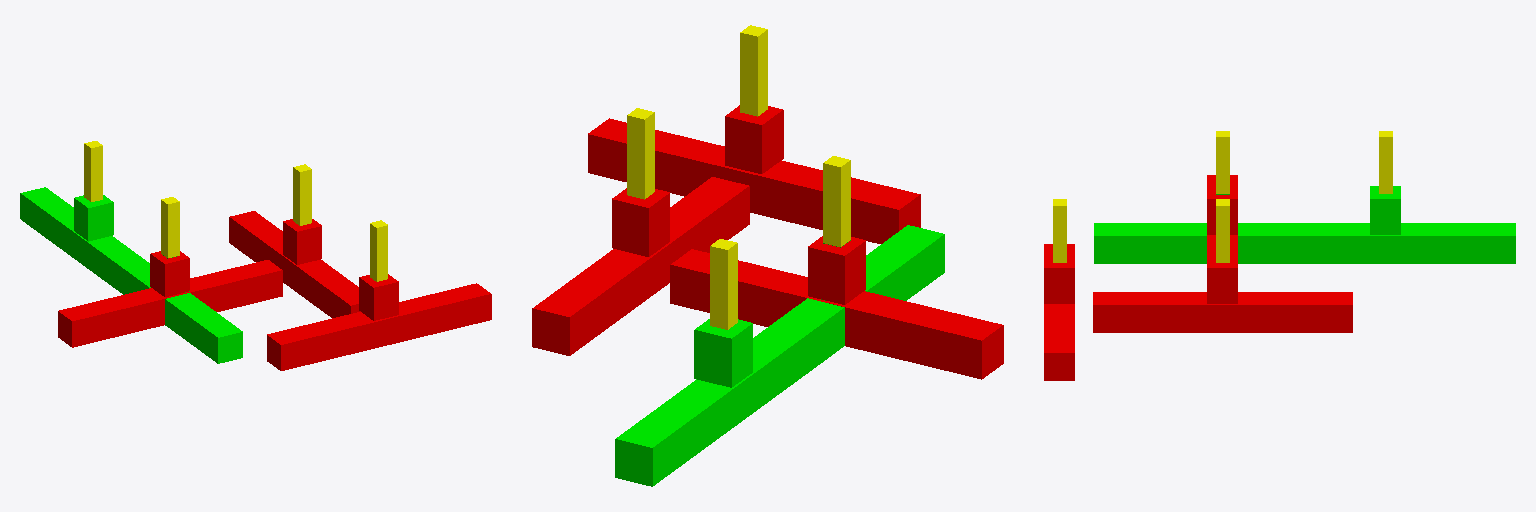
--- Facts derived from the render (not from the file) ---
Views: 3 orthographic renders of the robot side by side, from view 1: azimuth 30°, elevation 25°; view 2: azimuth 150°, elevation 25°; view 3: azimuth 270°, elevation 25°.
Model simple_sliders with 25 links and 24 joints (7 revolute, 6 prismatic, 11 fixed), rooted at base_link, posed every joint at zero.
Visible links, largest first — view 1: link_3_joint_0, link_1_joint_0, link_0_joint_0, link_2_joint_0, goal, link_fixed_10_handle_shaft, link_fixed_1_handle_shaft, link_fixed_4_handle_shaft, link_fixed_7_handle_shaft, link_fixed_2_handle_knob, link_fixed_5_handle_knob, link_fixed_8_handle_knob (+1 smaller); view 2: link_1_joint_0, link_0_joint_0, link_3_joint_0, link_2_joint_0, goal, link_fixed_10_handle_shaft, link_fixed_1_handle_shaft, link_fixed_7_handle_shaft, link_fixed_4_handle_shaft, link_fixed_8_handle_knob, link_fixed_11_handle_knob, link_fixed_5_handle_knob (+1 smaller); view 3: link_0_joint_0, link_2_joint_0, goal, link_3_joint_0, link_fixed_10_handle_shaft, link_fixed_1_handle_shaft, link_fixed_7_handle_shaft, link_fixed_11_handle_knob, link_fixed_8_handle_knob, link_fixed_4_handle_shaft, link_fixed_2_handle_knob, link_fixed_5_handle_knob (+1 smaller).
Link boxes in pixels (bbox=[...]): link_3_joint_0: bbox=[267, 283, 491, 370]; link_1_joint_0: bbox=[58, 260, 282, 347]; link_0_joint_0: bbox=[20, 187, 149, 294]; link_2_joint_0: bbox=[229, 211, 360, 317]; goal: bbox=[142, 280, 242, 363]; link_fixed_10_handle_shaft: bbox=[359, 274, 398, 320]; link_fixed_1_handle_shaft: bbox=[74, 195, 113, 241]; link_fixed_4_handle_shaft: bbox=[150, 251, 189, 296]; link_fixed_7_handle_shaft: bbox=[283, 219, 321, 264]; link_fixed_2_handle_knob: bbox=[84, 141, 102, 201]; link_fixed_5_handle_knob: bbox=[161, 197, 179, 257]; link_fixed_8_handle_knob: bbox=[293, 164, 311, 225]; link_1_joint_0: bbox=[670, 249, 1003, 379]; link_0_joint_0: bbox=[615, 307, 831, 486]; link_3_joint_0: bbox=[588, 118, 920, 243]; link_2_joint_0: bbox=[532, 177, 749, 355]; goal: bbox=[796, 225, 944, 354]; link_fixed_10_handle_shaft: bbox=[725, 105, 783, 173]; link_fixed_1_handle_shaft: bbox=[694, 319, 752, 387]; link_fixed_7_handle_shaft: bbox=[612, 188, 669, 256]; link_fixed_4_handle_shaft: bbox=[808, 236, 865, 304]; link_fixed_8_handle_knob: bbox=[627, 108, 654, 199]; link_fixed_11_handle_knob: bbox=[740, 25, 767, 116]; link_fixed_5_handle_knob: bbox=[823, 156, 850, 246]; link_0_joint_0: bbox=[1256, 223, 1515, 263]; link_2_joint_0: bbox=[1093, 292, 1352, 332]; goal: bbox=[1094, 223, 1255, 263]; link_3_joint_0: bbox=[1044, 244, 1074, 380]; link_fixed_10_handle_shaft: bbox=[1044, 255, 1074, 303]; link_fixed_1_handle_shaft: bbox=[1370, 186, 1400, 234]; link_fixed_7_handle_shaft: bbox=[1207, 255, 1237, 303]; link_fixed_11_handle_knob: bbox=[1053, 199, 1066, 262]; link_fixed_8_handle_knob: bbox=[1216, 199, 1229, 262]; link_fixed_4_handle_shaft: bbox=[1207, 186, 1237, 234]; link_fixed_2_handle_knob: bbox=[1379, 131, 1392, 193]; link_fixed_5_handle_knob: bbox=[1216, 131, 1229, 193].
Size in the robot's own frame: 1.29 by 1.45 by 0.42 metres.
0 mesh visuals loaded from 8 distinct referenced files (none loaded); not drawn: 8 (reference not matched to a file when rendering).

robot.urdf — simple_sliders:
<?xml version="1.0" ?>
<robot name="simple_sliders">
  

  <material name="Grey">
    
    
    <color rgba="0.2 0.2 0.2 1.0"/>
    
  
  </material>
  
  
  <material name="Orange">
    
    
    <color rgba="1.0 0.423529411765 0.0392156862745 1.0"/>
    
  
  </material>
  
  
  <material name="Blue">
    
    
    <color rgba="0.5 0.7 1.0 1.0"/>
          
  
  </material>
  



  
  <link name="base_link">
  </link>
  
  
  
  
  <joint name="x_axis" type="prismatic">
    
    
    <parent link="base_link"/>
    
    
    <child link="link_2d_plane"/>
    
    
    <origin rpy="0 0 0" xyz="0 0 0"/>
    
    
    <axis xyz="1.0 0 0"/>
    
    
    <limit lower="-4" upper="4" effort="0" velocity="0"/>
    
    
    <dynamics damping="0.5"/>
    
  
  </joint>
  
  
  
  <link name="link_2d_plane">
  </link>
  
  
  
  
  <joint name="y_axis" type="prismatic">
    
    
    <parent link="link_2d_plane"/>
    
    
    <child link="lbr_iiwa_link_0"/>
    
    
    <origin rpy="0 0 0" xyz="0 0 0"/>
    
    
    <axis xyz="0 1.0 0"/>
    
    
    <limit lower="-4" upper="4" effort="0" velocity="0"/>
    
    
    <dynamics damping="0.5"/>
    
  
  </joint>
  

  
  
  
  
  
  
  
  
  
  <link name="lbr_iiwa_link_0">
    
    
    <inertial>
      
      
      <origin rpy="0 0 0" xyz="-0.1 0 0.07"/>
      
      
      
      <mass value="0.0"/>
      
      
      <inertia ixx="0.05" ixy="0" ixz="0" iyy="0.06" iyz="0" izz="0.03"/>
      
    
    </inertial>
    
    
    <visual>
      
      
      <origin rpy="0 0 0" xyz="0 0 0"/>
      
      
      <geometry>
        
        
        <mesh filename="meshes/link_0.obj"/>
        
      
      </geometry>
      
      
      <material name="Grey"/>
      
    
    </visual>
    
    
    <collision>
      
      
      <origin rpy="0 0 0" xyz="0 0 0"/>
      
      
      <geometry>
        
        
        <mesh filename="meshes/link_0.stl"/>
        
      
      </geometry>
      
    
    </collision>
    
  
  </link>
  
  
  
  <joint name="lbr_iiwa_joint_1" type="revolute">
    
    
    <parent link="lbr_iiwa_link_0"/>
    
    
    <child link="lbr_iiwa_link_1"/>
    
    
    <origin rpy="0 0 0" xyz="0 0 0.1575"/>
    
    
    <axis xyz="0 0 1"/>
    
    
    <limit effort="300" lower="-2.96705972839" upper="2.96705972839" velocity="10"/>
    
    
    <dynamics damping="0.5"/>
    
  
  </joint>
  
  
  <link name="lbr_iiwa_link_1">
    
    
    <inertial>
      
      
      <origin rpy="0 0 0" xyz="0 -0.03 0.12"/>
      
      
      <mass value="4"/>
      
      
      <inertia ixx="0.1" ixy="0" ixz="0" iyy="0.09" iyz="0" izz="0.02"/>
      
    
    </inertial>
    
    
    <visual>
      
      
      <origin rpy="0 0 0" xyz="0 0 0"/>
      
      
      <geometry>
        
        
        <mesh filename="meshes/link_1.obj"/>
        
      
      </geometry>
      
      
      <material name="Blue"/>
      
    
    </visual>
    
    
    <collision>
      
      
      <origin rpy="0 0 0" xyz="0 0 0"/>
      
      
      <geometry>
        
        
        <mesh filename="meshes/link_1.stl"/>
        
      
      </geometry>
      
    
    </collision>
    
  
  </link>
  
  
  
  <joint name="lbr_iiwa_joint_2" type="revolute">
    
    
    <parent link="lbr_iiwa_link_1"/>
    
    
    <child link="lbr_iiwa_link_2"/>
    
    
    <origin rpy="1.57079632679   0 3.14159265359" xyz="0 0 0.2025"/>
    
    
    <axis xyz="0 0 1"/>
    
    
    <limit effort="300" lower="-2.09439510239" upper="2.09439510239" velocity="10"/>
    
    
    <dynamics damping="0.5"/>
    
  
  </joint>
  
  
  <link name="lbr_iiwa_link_2">
    
    
    <inertial>
      
      
      <origin rpy="0 0 0" xyz="0.0003 0.059 0.042"/>
      
      
      <mass value="4"/>
      
      
      <inertia ixx="0.05" ixy="0" ixz="0" iyy="0.018" iyz="0" izz="0.044"/>
      
    
    </inertial>
    
    
    <visual>
      
      
      <origin rpy="0 0 0" xyz="0 0 0"/>
      
      
      <geometry>
        
        
        <mesh filename="meshes/link_2.obj"/>
        
      
      </geometry>
      
      
      <material name="Blue"/>
      
    
    </visual>
    
    
    <collision>
      
      
      <origin rpy="0 0 0" xyz="0 0 0"/>
      
      
      <geometry>
        
        
        <mesh filename="meshes/link_2.stl"/>
        
      
      </geometry>
      
    
    </collision>
    
  
  </link>
  
  
  
  <joint name="lbr_iiwa_joint_3" type="revolute">
    
    
    <parent link="lbr_iiwa_link_2"/>
    
    
    <child link="lbr_iiwa_link_3"/>
    
    
    <origin rpy="1.57079632679 0 3.14159265359" xyz="0 0.2045 0"/>
    
    
    <axis xyz="0 0 1"/>
    
    
    <limit effort="300" lower="-2.96705972839" upper="2.96705972839" velocity="10"/>
    
    
    <dynamics damping="0.5"/>
    
  
  </joint>
  
  
  <link name="lbr_iiwa_link_3">
    
    
    <inertial>
      
      
      <origin rpy="0 0 0" xyz="0 0.03 0.13"/>
      
      
      <mass value="3"/>
      
      
      <inertia ixx="0.08" ixy="0" ixz="0" iyy="0.075" iyz="0" izz="0.01"/>
      
    
    </inertial>
    
    
    <visual>
      
      
      <origin rpy="0 0 0" xyz="0 0 0"/>
      
      
      <geometry>
        
        
        <mesh filename="meshes/link_3.obj"/>
        
      
      </geometry>
      
      
      <material name="Orange"/>
      
    
    </visual>
    
    
    <collision>
      
      
      <origin rpy="0 0 0" xyz="0 0 0"/>
      
      
      <geometry>
        
        
        <mesh filename="meshes/link_3.stl"/>
        
      
      </geometry>
      
    
    </collision>
    
  
  </link>
  
  
  
  <joint name="lbr_iiwa_joint_4" type="revolute">
    
    
    <parent link="lbr_iiwa_link_3"/>
    
    
    <child link="lbr_iiwa_link_4"/>
    
    
    <origin rpy="1.57079632679 0 0" xyz="0 0 0.2155"/>
    
    
    <axis xyz="0 0 1"/>
    
    
    <limit effort="300" lower="-2.09439510239" upper="2.09439510239" velocity="10"/>
    
    
    <dynamics damping="0.5"/>
    
  
  </joint>
  
  
  <link name="lbr_iiwa_link_4">
    
    
    <inertial>
      
      
      <origin rpy="0 0 0" xyz="0 0.067 0.034"/>
      
      
      <mass value="2.7"/>
      
      
      <inertia ixx="0.03" ixy="0" ixz="0" iyy="0.01" iyz="0" izz="0.029"/>
      
    
    </inertial>
    
    
    <visual>
      
      
      <origin rpy="0 0 0" xyz="0 0 0"/>
      
      
      <geometry>
        
        
        <mesh filename="meshes/link_4.obj"/>
        
      
      </geometry>
      
      
      <material name="Blue"/>
      
    
    </visual>
    
    
    <collision>
      
      
      <origin rpy="0 0 0" xyz="0 0 0"/>
      
      
      <geometry>
        
        
        <mesh filename="meshes/link_4.stl"/>
        
      
      </geometry>
      
    
    </collision>
    
  
  </link>
  
  
  
  <joint name="lbr_iiwa_joint_5" type="revolute">
    
    
    <parent link="lbr_iiwa_link_4"/>
    
    
    <child link="lbr_iiwa_link_5"/>
    
    
    <origin rpy="-1.57079632679 3.14159265359 0" xyz="0 0.1845 0"/>
    
    
    <axis xyz="0 0 1"/>
    
    
    <limit effort="300" lower="-2.96705972839" upper="2.96705972839" velocity="10"/>
    
    
    <dynamics damping="0.5"/>
    
  
  </joint>
  
  
  <link name="lbr_iiwa_link_5">
    
    
    <inertial>
      
      
      <origin rpy="0 0 0" xyz="0.0001 0.021 0.076"/>
      
      
      <mass value="1.7"/>
      
      
      <inertia ixx="0.02" ixy="0" ixz="0" iyy="0.018" iyz="0" izz="0.005"/>
      
    
    </inertial>
    
    
    <visual>
      
      
      <origin rpy="0 0 0" xyz="0 0 0"/>
      
      
      <geometry>
        
        
        <mesh filename="meshes/link_5.obj"/>
        
      
      </geometry>
      
      
      <material name="Blue"/>
      
    
    </visual>
    
    
    <collision>
      
      
      <origin rpy="0 0 0" xyz="0 0 0"/>
      
      
      <geometry>
        
        
        <mesh filename="meshes/link_5.stl"/>
        
      
      </geometry>
      
    
    </collision>
    
  
  </link>
  
  
  
  <joint name="lbr_iiwa_joint_6" type="revolute">
    
    
    <parent link="lbr_iiwa_link_5"/>
    
    
    <child link="lbr_iiwa_link_6"/>
    
    
    <origin rpy="1.57079632679 0 0" xyz="0 0 0.2155"/>
    
    
    <axis xyz="0 0 1"/>
    
    
    <limit effort="300" lower="-2.09439510239" upper="2.09439510239" velocity="10"/>
    
    
    <dynamics damping="0.5"/>
    
  
  </joint>
  
  
  <link name="lbr_iiwa_link_6">
    
    
    <inertial>
      
      
      <origin rpy="0 0 0" xyz="0 0.0006 0.0004"/>
      
      
      <mass value="1.8"/>
      
      
      <inertia ixx="0.005" ixy="0" ixz="0" iyy="0.0036" iyz="0" izz="0.0047"/>
      
    
    </inertial>
    
    
    <visual>
      
      
      <origin rpy="0 0 0" xyz="0 0 0"/>
      
      
      <geometry>
        
        
        <mesh filename="meshes/link_6.obj"/>
        
      
      </geometry>
      
      
      <material name="Orange"/>
      
    
    </visual>
    
    
    <collision>
      
      
      <origin rpy="0 0 0" xyz="0 0 0"/>
      
      
      <geometry>
        
        
        <mesh filename="meshes/link_6.stl"/>
        
      
      </geometry>
      
    
    </collision>
    
  
  </link>
  
  
  
  <joint name="lbr_iiwa_joint_7" type="revolute">
    
    
    <parent link="lbr_iiwa_link_6"/>
    
    
    <child link="lbr_iiwa_link_7"/>
    
    
    <origin rpy="-1.57079632679 3.14159265359 0" xyz="0 0.081 0"/>
    
    
    <axis xyz="0 0 1"/>
    
    
    <limit effort="300" lower="-3.05432619099" upper="3.05432619099" velocity="10"/>
    
    
    <dynamics damping="0.5"/>
    
  
  </joint>
  
  
  <link name="lbr_iiwa_link_7">
    
    
    <inertial>
      
      
      <origin rpy="0 0 0" xyz="0 0 0.02"/>
      
      
      <mass value="0.3"/>
      
      
      <inertia ixx="0.001" ixy="0" ixz="0" iyy="0.001" iyz="0" izz="0.001"/>
      
    
    </inertial>
    
    
    <visual>
      
      
      <origin rpy="0 0 0" xyz="0 0 0"/>
      
      
      <geometry>
        
        
        <mesh filename="meshes/link_7.obj"/>
        
      
      </geometry>
      
      
      <material name="Grey"/>
      
    
    </visual>
    
    
    <collision>
      
      
      <origin rpy="0 0 0" xyz="0 0 0"/>
      
      
      <geometry>
        
        
        <mesh filename="meshes/link_7.stl"/>
        
      
      </geometry>
      
    
    </collision>
    
  
  </link>
  
  

  <link name="goal">
    
      
    <visual name="visual_box_0_link_0.001">
      
        
      <origin xyz="0 0 0" rpy="0 0 0"/>
      
        
      <geometry>
        
          
        <box size="0.79103 0.09453 0.09453"/>
        
        
      </geometry>
      
        
      <material name="green_translucent"/>
      
      
    </visual>
    
    
  </link>
  

    
  <link name="link_0_joint_0">
    
      
    <visual name="visual_box_0_link_0">
      
        
      <origin xyz="0 0 0" rpy="0 0 0"/>
      
        
      <geometry>
        
          
        <box size="0.795 0.095 0.095"/>
        
        
      </geometry>
      
        
      <material name="green"/>
      
      
    </visual>
    
      
    <collision name="collision_box_0_link_0">
      
        
      <origin xyz="0 0 0" rpy="0 0 0"/>
      
        
      <geometry>
        
          
        <box size="0.795 0.095 0.095"/>
        
        
      </geometry>
      
      
    </collision>
    
    
  </link>
  

    
  <link name="link_1_joint_0">
    
      
    <visual name="visual_box_3_link_1">
      
        
      <origin xyz="0 0 0" rpy="0 0 0"/>
      
        
      <geometry>
        
          
        <box size="0.795 0.095 0.095"/>
        
        
      </geometry>
      
        
      <material name="red"/>
      
      
    </visual>
    
      
    <collision name="collision_box_3_link_1">
      
        
      <origin xyz="0 0 0" rpy="0 0 0"/>
      
        
      <geometry>
        
          
        <box size="0.795 0.095 0.095"/>
        
        
      </geometry>
      
      
    </collision>
    
    
  </link>
  

    
  <link name="link_2_joint_0">
    
      
    <visual name="visual_box_6_link_2">
      
        
      <origin xyz="0 0 0" rpy="0 0 0"/>
      
        
      <geometry>
        
          
        <box size="0.795 0.095 0.095"/>
        
        
      </geometry>
      
        
      <material name="red"/>
      
      
    </visual>
    
      
    <collision name="collision_box_6_link_2">
      
        
      <origin xyz="0 0 0" rpy="0 0 0"/>
      
        
      <geometry>
        
          
        <box size="0.795 0.095 0.095"/>
        
        
      </geometry>
      
      
    </collision>
    
    
  </link>
  

    
  <link name="link_3_joint_0">
    
      
    <visual name="visual_box_9_link_3">
      
        
      <origin xyz="0 0 0" rpy="0 0 0"/>
      
        
      <geometry>
        
          
        <box size="0.795 0.095 0.095"/>
        
        
      </geometry>
      
        
      <material name="red"/>
      
      
    </visual>
    
      
    <collision name="collision_box_9_link_3">
      
        
      <origin xyz="0 0 0" rpy="0 0 0"/>
      
        
      <geometry>
        
          
        <box size="0.795 0.095 0.095"/>
        
        
      </geometry>
      
      
    </collision>
    
    
  </link>
  

    
  <link name="link_fixed_10_handle_shaft">
    
      
    <visual name="visual_box_fixed_10_handle_shaft">
      
        
      <origin xyz="0 0 0" rpy="0 0 0"/>
      
        
      <geometry>
        
          
        <box size="0.095 0.095 0.12"/>
        
        
      </geometry>
      
        
      <material name="red"/>
      
      
    </visual>
    
      
    <collision name="collision_box_fixed_10_handle_shaft">
      
        
      <origin xyz="0 0 0" rpy="0 0 0"/>
      
        
      <geometry>
        
          
        <box size="0.095 0.095 0.12"/>
        
        
      </geometry>
      
      
    </collision>
    
    
  </link>
  

    
  <link name="link_fixed_11_handle_knob">
    
      
    <visual name="visual_box_fixed_11_handle_knob">
      
        
      <origin xyz="0 0 0" rpy="0 0 0"/>
      
        
      <geometry>
        
          
        <box size="0.045 0.045 0.195"/>
        
        
      </geometry>
      
        
      <material name="yellow"/>
      
      
    </visual>
    
      
    <collision name="collision_box_fixed_11_handle_knob">
      
        
      <origin xyz="0 0 0" rpy="0 0 0"/>
      
        
      <geometry>
        
          
        <box size="0.045 0.045 0.195"/>
        
        
      </geometry>
      
      
    </collision>
    
    
  </link>
  

    
  <link name="link_fixed_1_handle_shaft">
    
      
    <visual name="visual_box_fixed_1_handle_shaft">
      
        
      <origin xyz="0 0 0" rpy="0 0 0"/>
      
        
      <geometry>
        
          
        <box size="0.095 0.095 0.12"/>
        
        
      </geometry>
      
        
      <material name="green"/>
      
      
    </visual>
    
      
    <collision name="collision_box_fixed_1_handle_shaft">
      
        
      <origin xyz="0 0 0" rpy="0 0 0"/>
      
        
      <geometry>
        
          
        <box size="0.095 0.095 0.12"/>
        
        
      </geometry>
      
      
    </collision>
    
    
  </link>
  

    
  <link name="link_fixed_1_handle_shaft.001">
    
      
    <visual name="visual_box_fixed_1_handle_shaft.001">
      
        
      <origin xyz="0 0 0" rpy="0 0 0"/>
      
        
      <geometry>
        
          
        <box size="0.09453 0.09453 0.1194"/>
        
        
      </geometry>
      
        
      <material name="green_translucent"/>
      
      
    </visual>
    
    
  </link>
  

    
  <link name="link_fixed_2_handle_knob">
    
      
    <visual name="visual_box_fixed_2_handle_knob">
      
        
      <origin xyz="0 0 0" rpy="0 0 0"/>
      
        
      <geometry>
        
          
        <box size="0.045 0.045 0.195"/>
        
        
      </geometry>
      
        
      <material name="yellow"/>
      
      
    </visual>
    
      
    <collision name="collision_box_fixed_2_handle_knob">
      
        
      <origin xyz="0 0 0" rpy="0 0 0"/>
      
        
      <geometry>
        
          
        <box size="0.045 0.045 0.195"/>
        
        
      </geometry>
      
      
    </collision>
    
    
  </link>
  

    
  <link name="link_fixed_2_handle_knob.001">
    
      
    <visual name="visual_box_fixed_2_handle_knob.001">
      
        
      <origin xyz="0 0 0" rpy="0 0 0"/>
      
        
      <geometry>
        
          
        <box size="0.04478 0.04478 0.19402"/>
        
        
      </geometry>
      
        
      <material name="green_translucent"/>
      
      
    </visual>
    
    
  </link>
  

    
  <link name="link_fixed_4_handle_shaft">
    
      
    <visual name="visual_box_fixed_4_handle_shaft">
      
        
      <origin xyz="0 0 0" rpy="0 0 0"/>
      
        
      <geometry>
        
          
        <box size="0.095 0.095 0.12"/>
        
        
      </geometry>
      
        
      <material name="red"/>
      
      
    </visual>
    
      
    <collision name="collision_box_fixed_4_handle_shaft">
      
        
      <origin xyz="0 0 0" rpy="0 0 0"/>
      
        
      <geometry>
        
          
        <box size="0.095 0.095 0.12"/>
        
        
      </geometry>
      
      
    </collision>
    
    
  </link>
  

    
  <link name="link_fixed_5_handle_knob">
    
      
    <visual name="visual_box_fixed_5_handle_knob">
      
        
      <origin xyz="0 0 0" rpy="0 0 0"/>
      
        
      <geometry>
        
          
        <box size="0.045 0.045 0.195"/>
        
        
      </geometry>
      
        
      <material name="yellow"/>
      
      
    </visual>
    
      
    <collision name="collision_box_fixed_5_handle_knob">
      
        
      <origin xyz="0 0 0" rpy="0 0 0"/>
      
        
      <geometry>
        
          
        <box size="0.045 0.045 0.195"/>
        
        
      </geometry>
      
      
    </collision>
    
    
  </link>
  

    
  <link name="link_fixed_7_handle_shaft">
    
      
    <visual name="visual_box_fixed_7_handle_shaft">
      
        
      <origin xyz="0 0 0" rpy="0 0 0"/>
      
        
      <geometry>
        
          
        <box size="0.095 0.095 0.12"/>
        
        
      </geometry>
      
        
      <material name="red"/>
      
      
    </visual>
    
      
    <collision name="collision_box_fixed_7_handle_shaft">
      
        
      <origin xyz="0 0 0" rpy="0 0 0"/>
      
        
      <geometry>
        
          
        <box size="0.095 0.095 0.12"/>
        
        
      </geometry>
      
      
    </collision>
    
    
  </link>
  

    
  <link name="link_fixed_8_handle_knob">
    
      
    <visual name="visual_box_fixed_8_handle_knob">
      
        
      <origin xyz="0 0 0" rpy="0 0 0"/>
      
        
      <geometry>
        
          
        <box size="0.045 0.045 0.195"/>
        
        
      </geometry>
      
        
      <material name="yellow"/>
      
      
    </visual>
    
      
    <collision name="collision_box_fixed_8_handle_knob">
      
        
      <origin xyz="0 0 0" rpy="0 0 0"/>
      
        
      <geometry>
        
          
        <box size="0.045 0.045 0.195"/>
        
        
      </geometry>
      
      
    </collision>
    
    
  </link>
  

    
  <joint name="goal" type="fixed">
    
      
    <origin xyz="0 -0.5 0.05" rpy="0 0 -1.5708"/>
    
      
    <parent link="base_link"/>
    
      
    <child link="goal"/>
    
      
    <limit effort="0" velocity="0"/>
    
    
  </joint>
  

    
  <joint name="link_0_joint_0" type="prismatic">
    
      
    <origin xyz="0 0 0.05" rpy="0 0 -1.5708"/>
    
      
    <parent link="base_link"/>
    
      
    <child link="link_0_joint_0"/>
    
      
    <axis xyz="1.0 0 0"/>
    
      
    <limit lower="0" upper="0.5" effort="0" velocity="0"/>
    
    
  </joint>
  

    
  <joint name="link_1_joint_0" type="prismatic">
    
      
    <origin xyz="0 -0.5 0.05" rpy="0 0 0"/>
    
      
    <parent link="base_link"/>
    
      
    <child link="link_1_joint_0"/>
    
      
    <axis xyz="1.0 0 0"/>
    
      
    <limit lower="0" upper="0.5" effort="0" velocity="0"/>
    
    
  </joint>
  

    
  <joint name="link_2_joint_0" type="prismatic">
    
      
    <origin xyz="0.5 -0.5 0.05" rpy="0 0 -1.5708"/>
    
      
    <parent link="base_link"/>
    
      
    <child link="link_2_joint_0"/>
    
      
    <axis xyz="1.0 0 0"/>
    
      
    <limit lower="0" upper="0.5" effort="0" velocity="0"/>
    
    
  </joint>
  

    
  <joint name="link_3_joint_0" type="prismatic">
    
      
    <origin xyz="0.5 -1.0 0.05" rpy="0 0 0"/>
    
      
    <parent link="base_link"/>
    
      
    <child link="link_3_joint_0"/>
    
      
    <axis xyz="1.0 0 0"/>
    
      
    <limit lower="0" upper="0.5" effort="0" velocity="0"/>
    
    
  </joint>
  

    
  <joint name="link_fixed_10_handle_shaft" type="fixed">
    
      
    <origin xyz="0 0 0.1125" rpy="0 0 0"/>
    
      
    <parent link="link_3_joint_0"/>
    
      
    <child link="link_fixed_10_handle_shaft"/>
    
    
  </joint>
  

    
  <joint name="link_fixed_11_handle_knob" type="fixed">
    
      
    <origin xyz="0 0 0.1625" rpy="0 0 0"/>
    
      
    <parent link="link_fixed_10_handle_shaft"/>
    
      
    <child link="link_fixed_11_handle_knob"/>
    
    
  </joint>
  

    
  <joint name="link_fixed_1_handle_shaft" type="fixed">
    
      
    <origin xyz="0 0 0.1125" rpy="0 0 0"/>
    
      
    <parent link="link_0_joint_0"/>
    
      
    <child link="link_fixed_1_handle_shaft"/>
    
    
  </joint>
  

    
  <joint name="link_fixed_1_handle_shaft.001" type="fixed">
    
      
    <origin xyz="0 0 0.11194" rpy="0 0 0"/>
    
      
    <parent link="goal"/>
    
      
    <child link="link_fixed_1_handle_shaft.001"/>
    
    
  </joint>
  

    
  <joint name="link_fixed_2_handle_knob" type="fixed">
    
      
    <origin xyz="0 0 0.1625" rpy="0 0 0"/>
    
      
    <parent link="link_fixed_1_handle_shaft"/>
    
      
    <child link="link_fixed_2_handle_knob"/>
    
    
  </joint>
  

    
  <joint name="link_fixed_2_handle_knob.001" type="fixed">
    
      
    <origin xyz="0 0 0.16169" rpy="0 0 0"/>
    
      
    <parent link="link_fixed_1_handle_shaft.001"/>
    
      
    <child link="link_fixed_2_handle_knob.001"/>
    
    
  </joint>
  

    
  <joint name="link_fixed_4_handle_shaft" type="fixed">
    
      
    <origin xyz="0 0 0.1125" rpy="0 0 0"/>
    
      
    <parent link="link_1_joint_0"/>
    
      
    <child link="link_fixed_4_handle_shaft"/>
    
    
  </joint>
  

    
  <joint name="link_fixed_5_handle_knob" type="fixed">
    
      
    <origin xyz="0 0 0.1625" rpy="0 0 0"/>
    
      
    <parent link="link_fixed_4_handle_shaft"/>
    
      
    <child link="link_fixed_5_handle_knob"/>
    
    
  </joint>
  

    
  <joint name="link_fixed_7_handle_shaft" type="fixed">
    
      
    <origin xyz="0 0 0.1125" rpy="0 0 0"/>
    
      
    <parent link="link_2_joint_0"/>
    
      
    <child link="link_fixed_7_handle_shaft"/>
    
    
  </joint>
  

    
  <joint name="link_fixed_8_handle_knob" type="fixed">
    
      
    <origin xyz="0 0 0.1625" rpy="0 0 0"/>
    
      
    <parent link="link_fixed_7_handle_shaft"/>
    
      
    <child link="link_fixed_8_handle_knob"/>
    
    
  </joint>
  

    
  <material name="green">
    
      
    <color rgba="0 1.0 0 1.0"/>
    
    
  </material>
  

    
  <material name="green_translucent">
    
      
    <color rgba="0 1.0 0 0.25"/>
    
    
  </material>
  

    
  <material name="red">
    
      
    <color rgba="1.0 0 0 1.0"/>
    
    
  </material>
  

    
  <material name="yellow">
    
      
    <color rgba="1.0 1.0 0 1.0"/>
    
    
  </material>
  

  
</robot>
